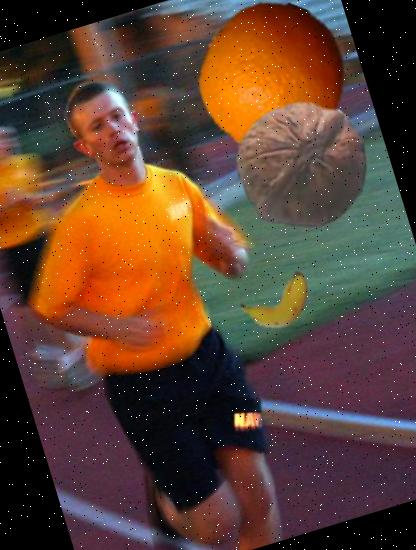Banana: (235, 256, 326, 346)
Orange: (180, 0, 366, 169)
Walnut: (218, 81, 386, 248)
